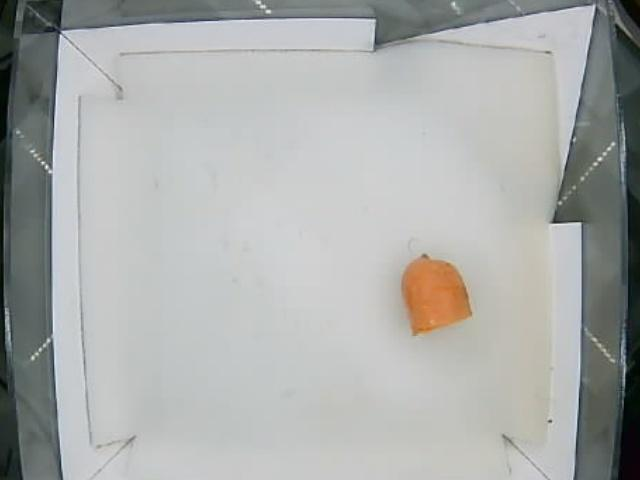Carrot: (402, 255, 470, 337)
